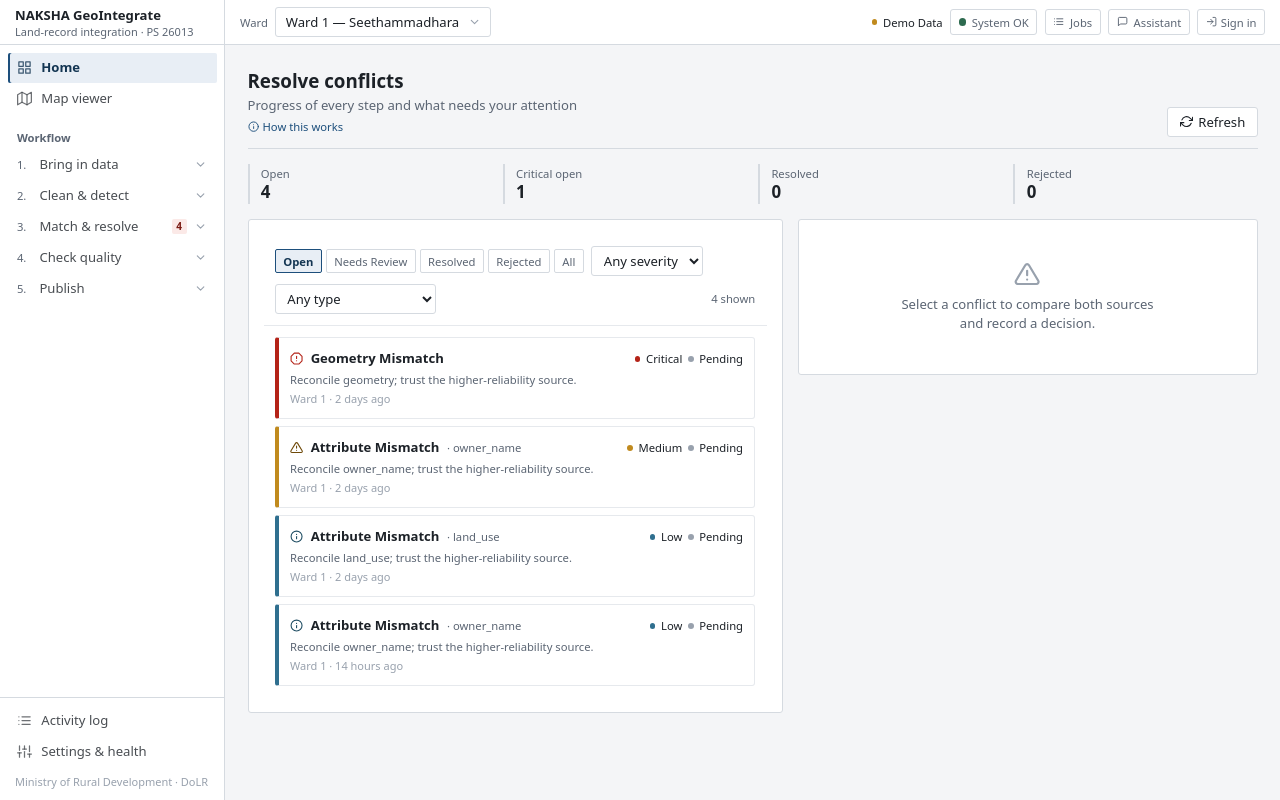
Test: ConflictsPage › resolves a conflict
Click the button that starts with "geometry mismatch" at (515, 378), box [275, 337, 755, 419]
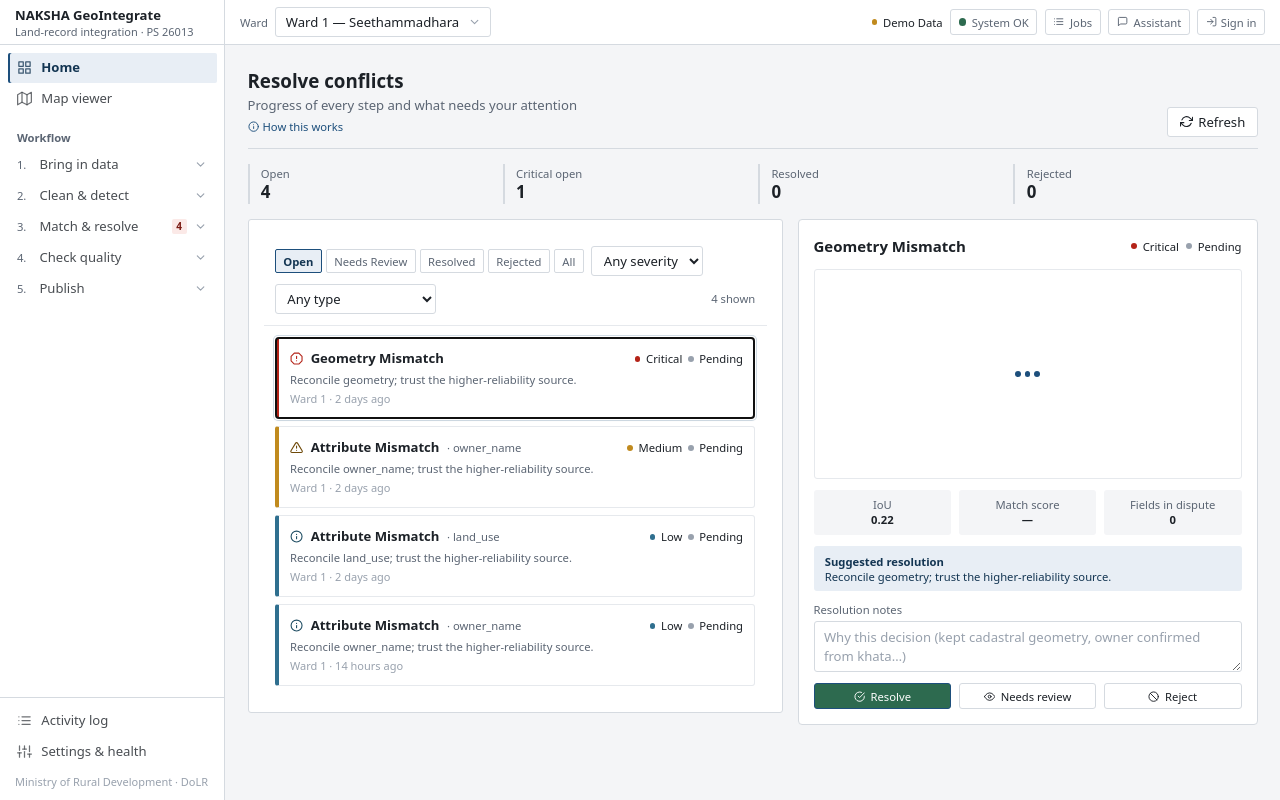
Click the button "Resolve" at (882, 696), box [814, 683, 951, 710]
(page scrolled)
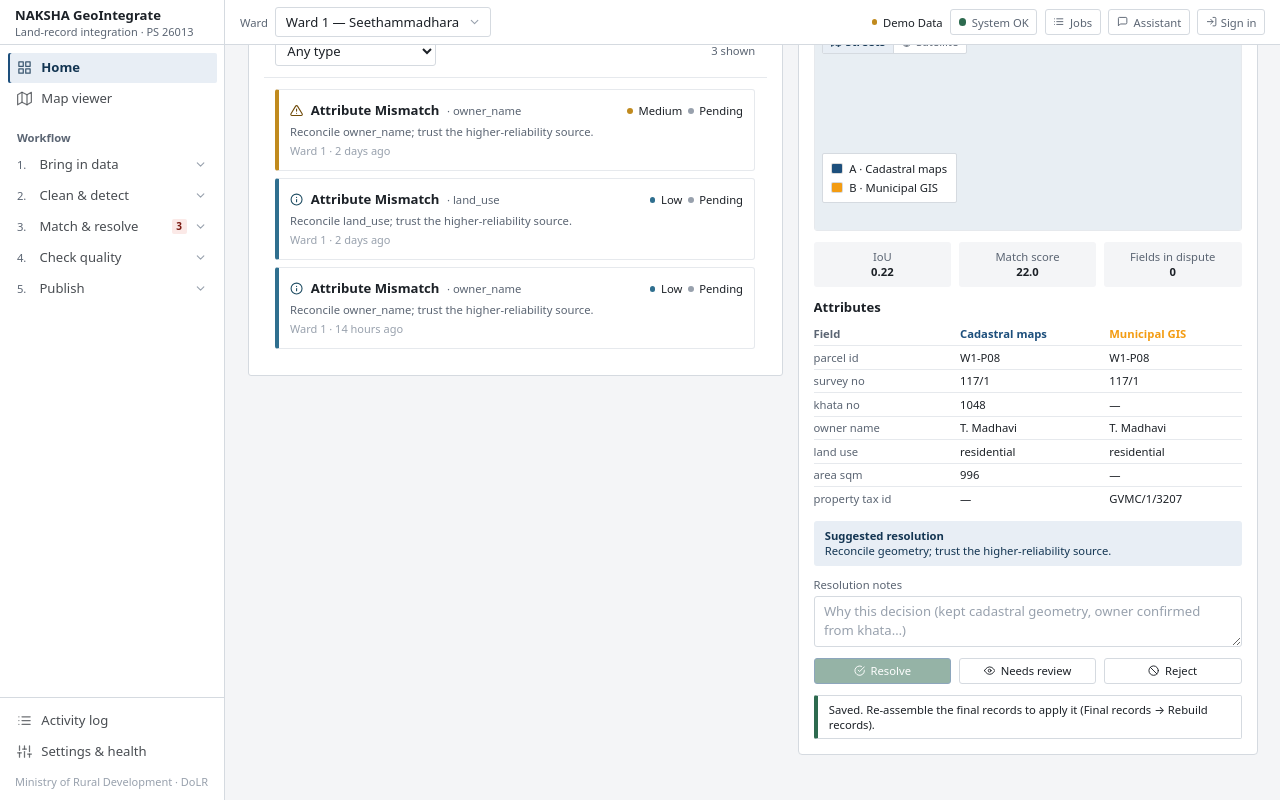
Expected: the text "Saved. Re-assemble" is shown, [829, 702, 1208, 732]
